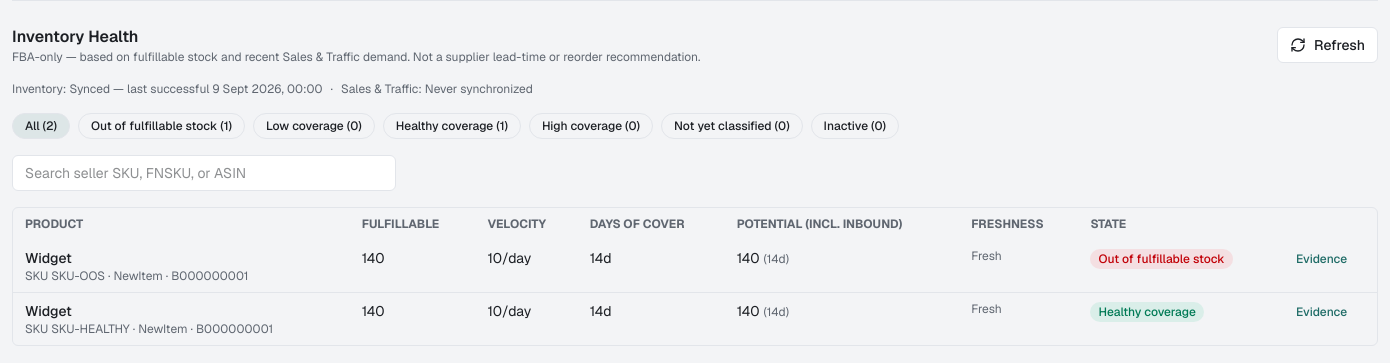
SellerInventoryHealth › filters the visible rows when a state chip is clicked
The width and height of the screenshot is (1390, 363).
Expected: the row with test id "inventory-health-row-a" is shown, [13, 240, 1377, 292]
Click the button with test id "state-filter-out_of_stock": (162, 126) [78, 113, 245, 139]
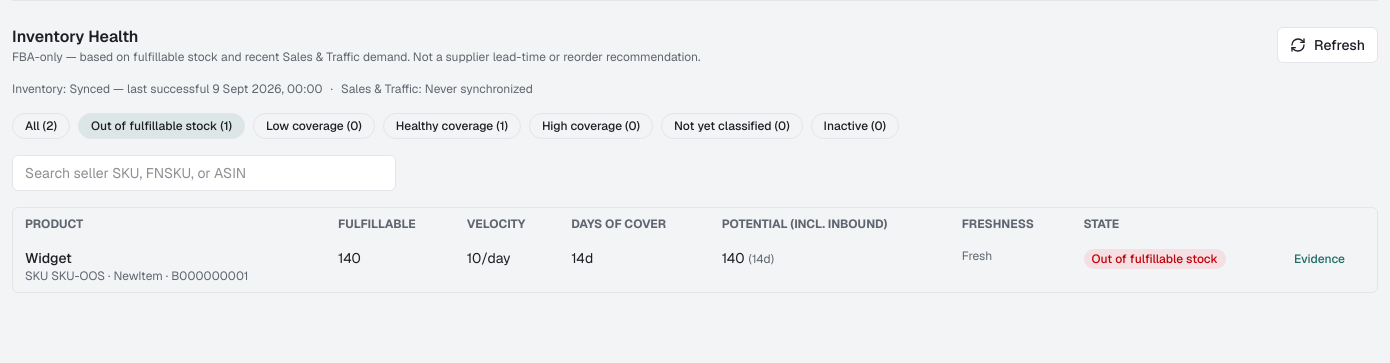
Expected: the row with test id "inventory-health-row-a" is shown, [13, 240, 1377, 292]
Expected: the row with test id "inventory-health-row-b" is gone
